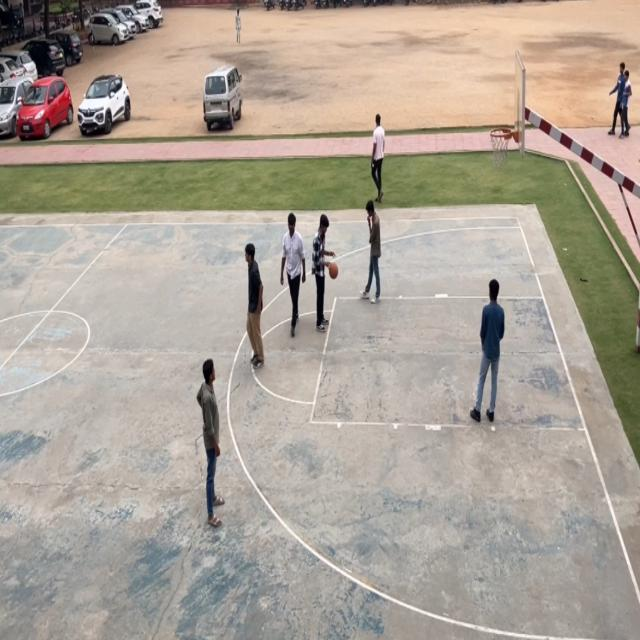basketball: (326, 257, 341, 285)
hoop: (487, 126, 512, 170)
